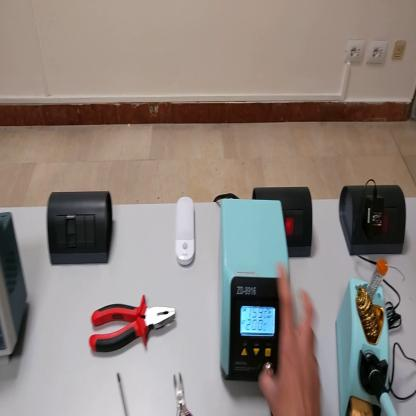hand: (260, 261, 323, 415)
oscilloscope: (1, 203, 30, 370)
pliers: (90, 295, 175, 354), (173, 372, 194, 415)
screwdriver-: (118, 369, 130, 415)
socket: (339, 180, 408, 259), (254, 184, 314, 252)
welder base: (336, 255, 395, 414)
welder probe tip: (371, 359, 400, 414)
welder station: (216, 200, 291, 385)
